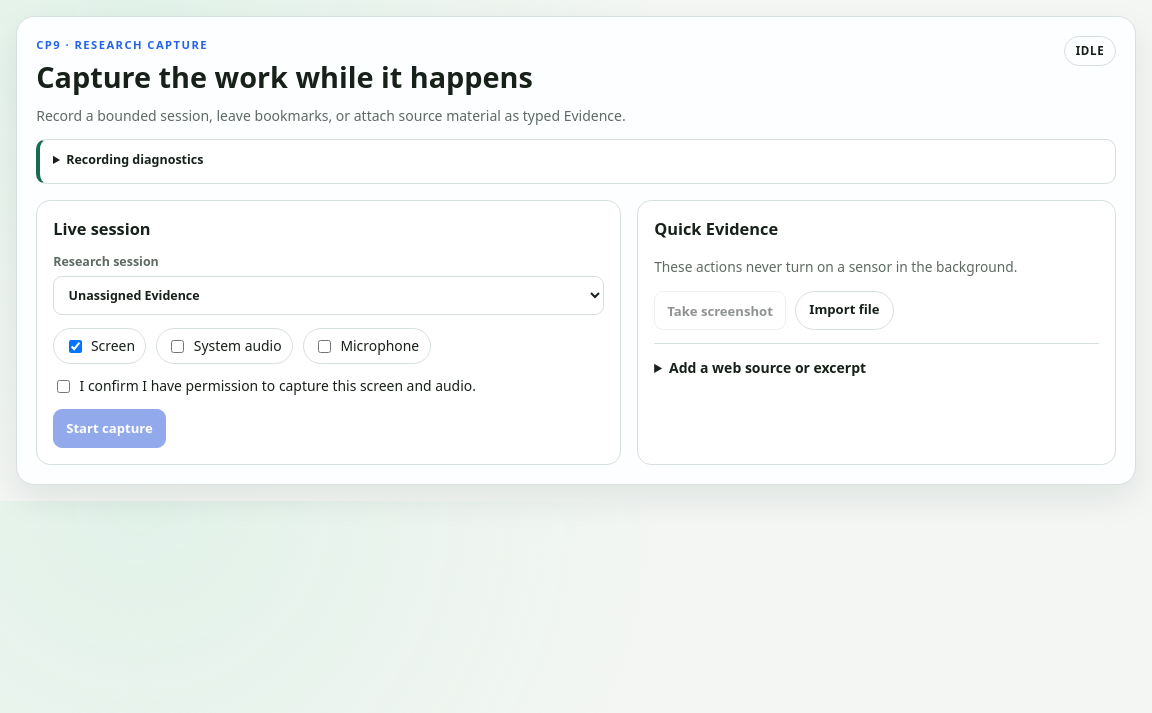
Scenario: CP9 capture consent boundary › restores Start rather than offering an impossible retry after native finalization fails
Click the checkbox labelled "Microphone".
click(324, 346)  # box [318, 340, 331, 352]
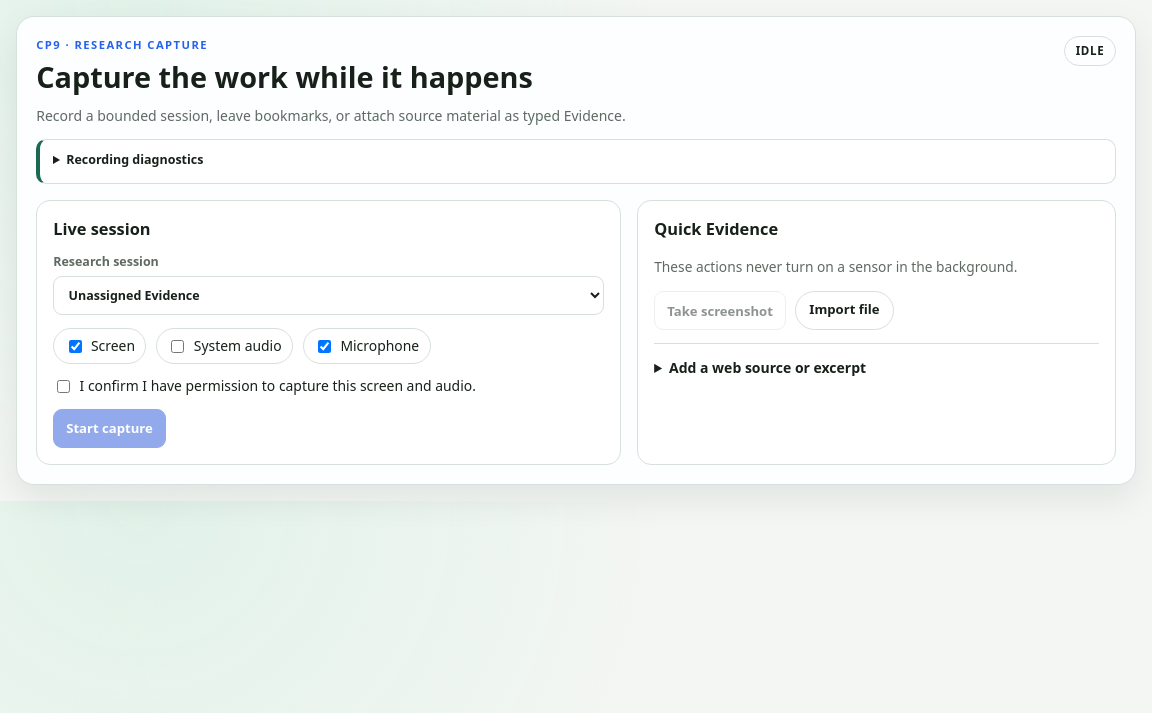
Click the checkbox labelled "I confirm I have permission to capture this screen and audio.".
click(64, 386)  # box [57, 380, 70, 393]
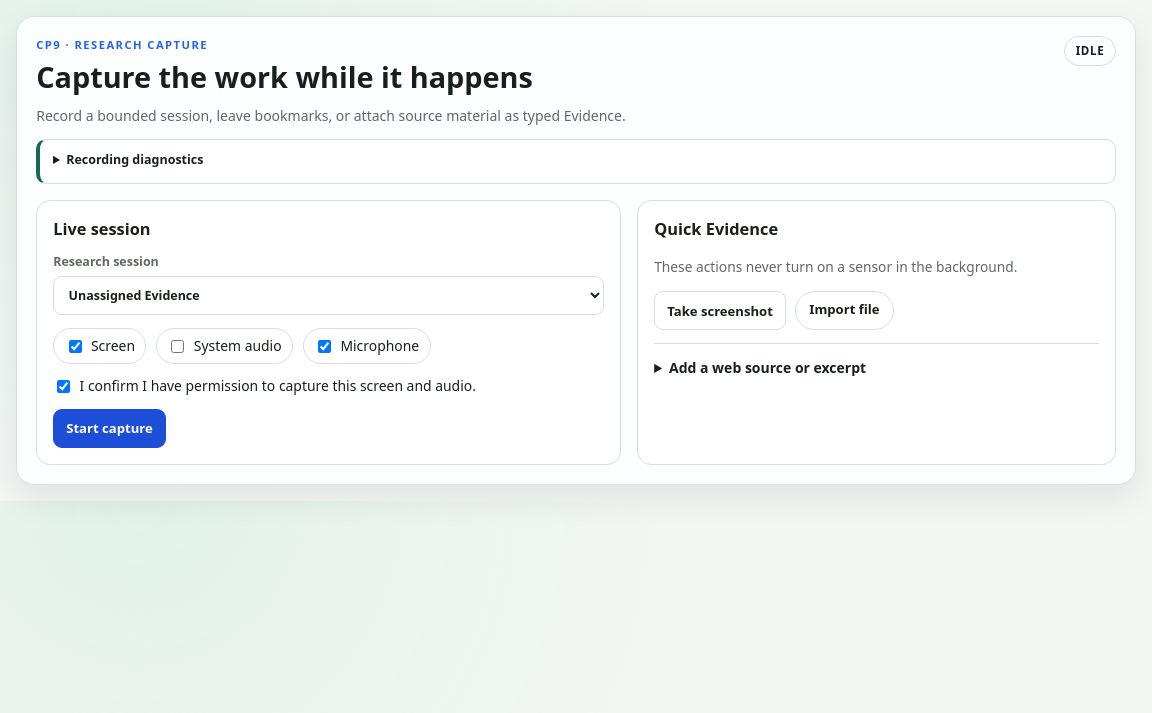
Click the button "Start capture".
click(110, 428)  # box [53, 409, 166, 448]
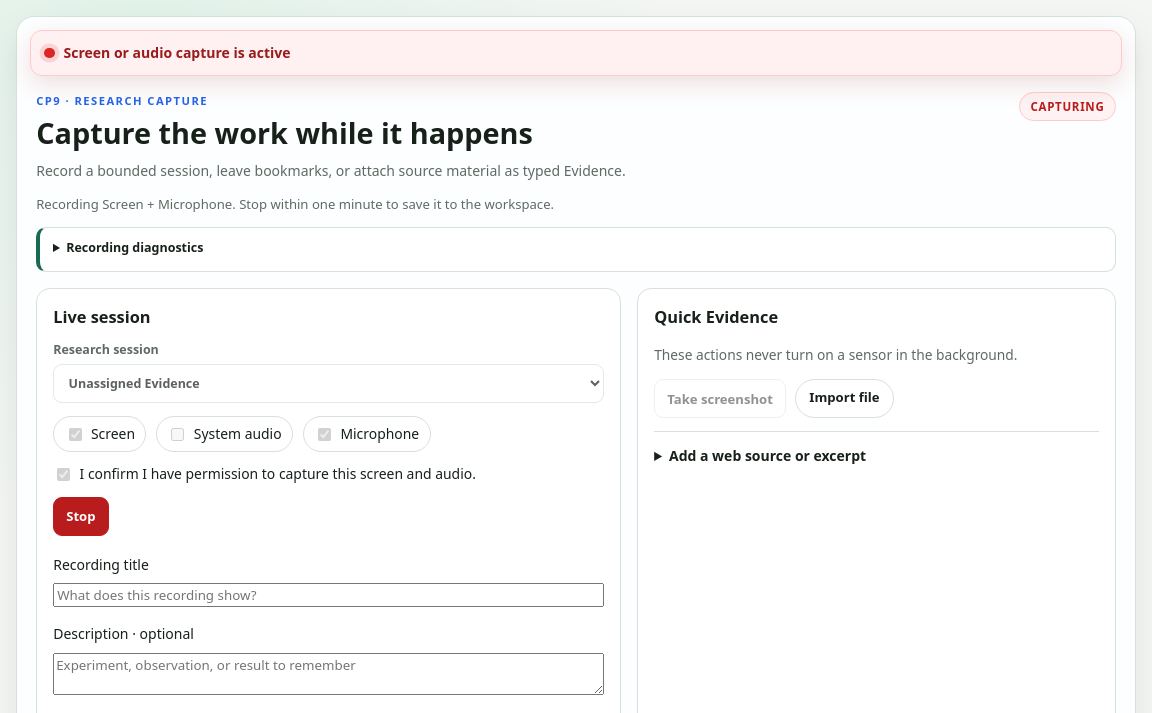
Expected: the button "Stop" is shown
Click the button "Stop".
click(81, 516)  # box [53, 497, 108, 536]
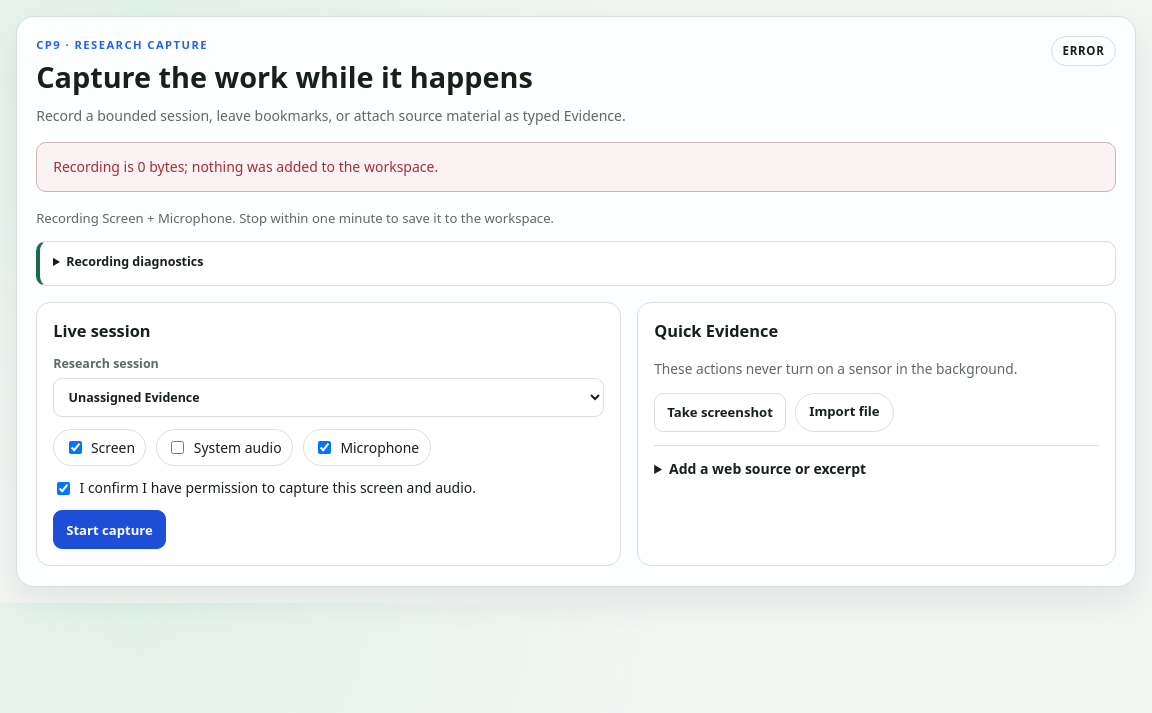
Expected: the text "Recording is 0 bytes; nothing was added to the workspace." is shown, [36, 142, 1116, 192]
Expected: the button "Start capture" is enabled, [53, 510, 166, 549]
